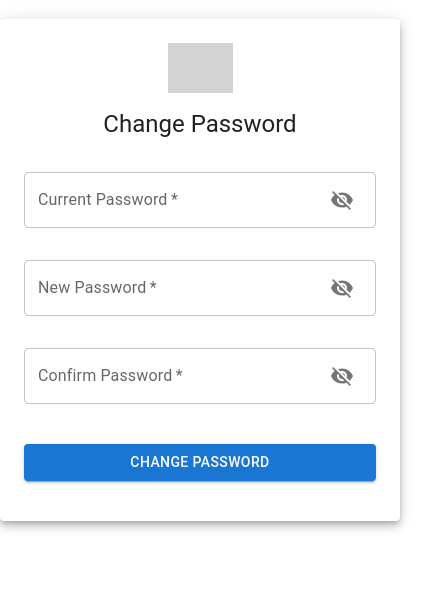
Test case: ChangePasswordPage › shows error if new password equals current password
This screenshot has width=423, height=616.
Type "abc12345" into the password field labelled "Current Password *". click: (169, 200)
box: [24,172,314,228]
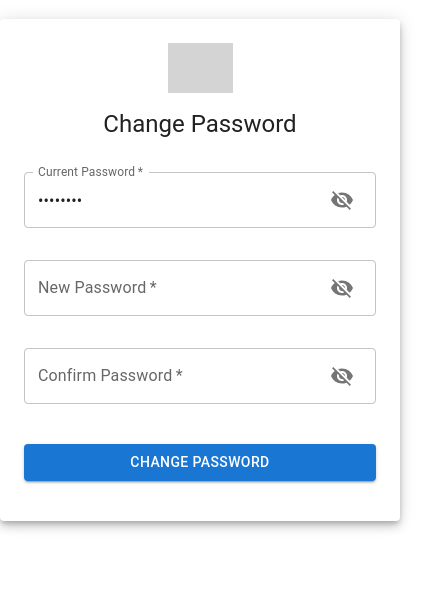
Type "abc12345" into the password field labelled "New Password *". click: (169, 288)
box: [24,260,314,316]
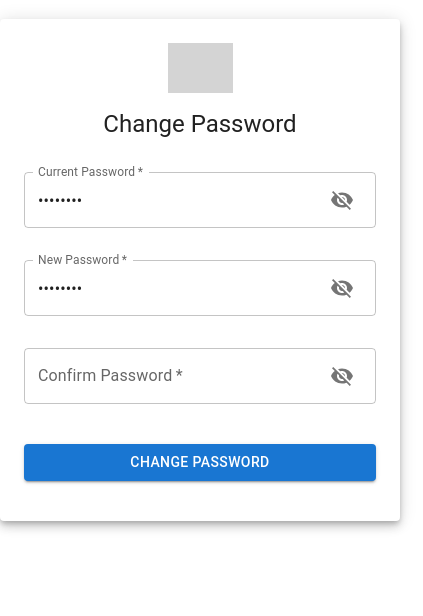
Type "abc12345" into the password field labelled "Confirm Password *". click: (169, 376)
box: [24,348,314,404]
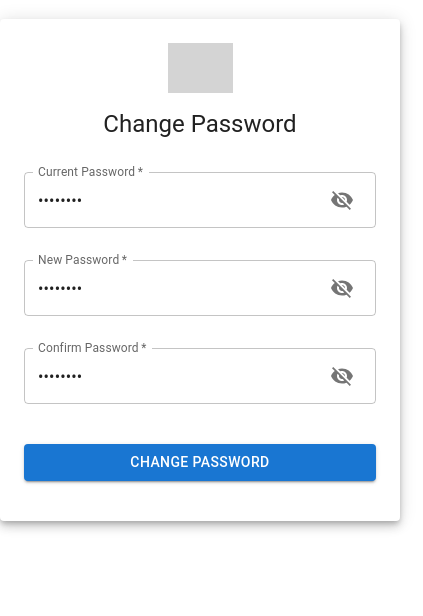
Click the button "Change Password". click: (200, 462)
box: [24,444,376,480]
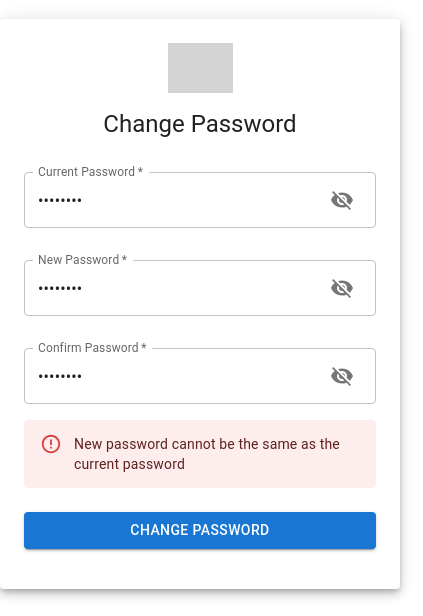
Check: the text "New password cannot be the same as the current password" is shown, box [74,426,360,482]
